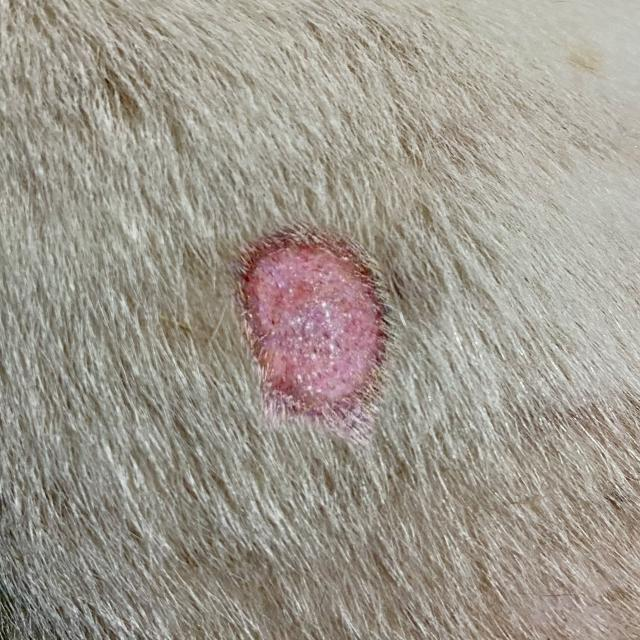ringworm: (196, 224, 440, 438)
